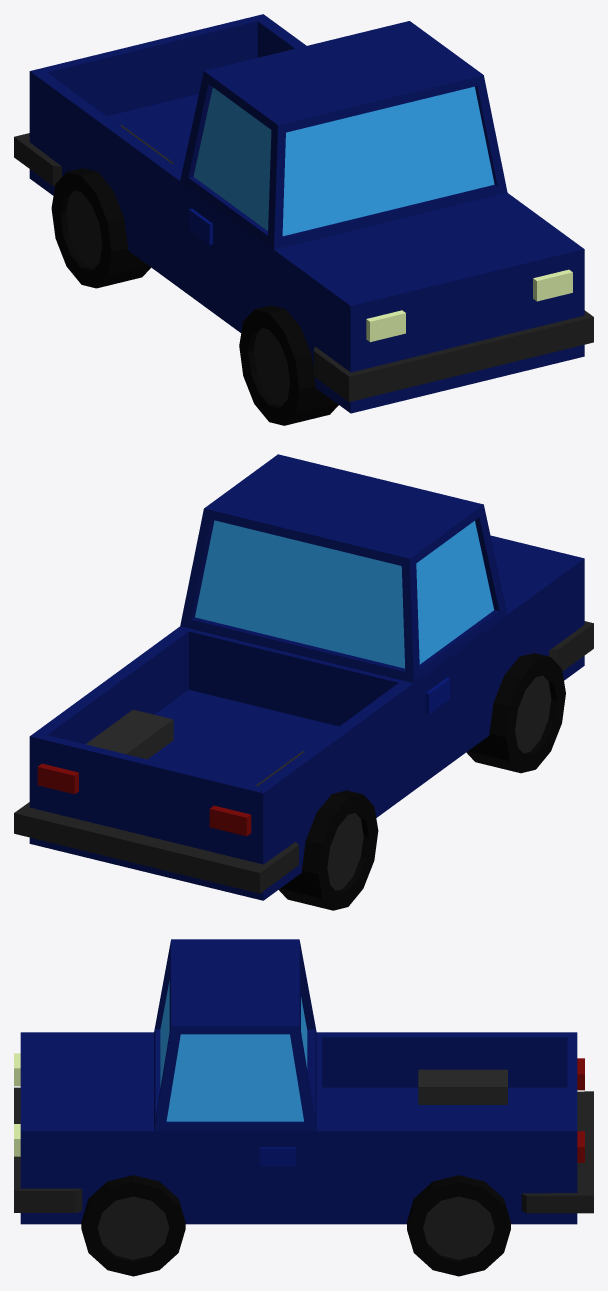
Rendered from LowPolyTruckTextured.fbx.
The picture shows the model from 3 angles, top to bottom: view 1: azimuth 30°, elevation 25°; view 2: azimuth 150°, elevation 25°; view 3: azimuth 270°, elevation 25°; orthographic projection. The views are drawn at different scales.
Visible parts, largest first — view 1: Cube; view 2: Cube; view 3: Cube.
Part boxes in pixels (x1,y1,x2,y2): Cube: (14, 14, 593, 425); Cube: (14, 454, 593, 910); Cube: (14, 939, 593, 1276).
Bounding box in the file's own units: 2.55 × 2.5 × 5.54.
Materials: 1 (1 with a texture image).
